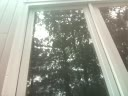window: (35, 8, 87, 96), (109, 6, 128, 39)
